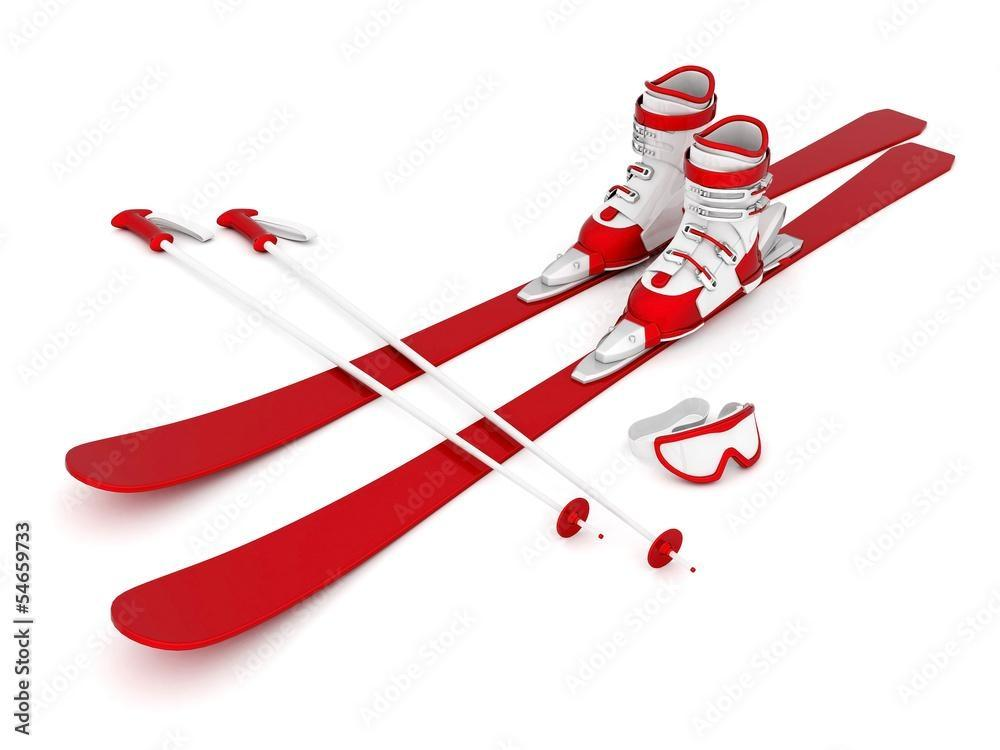Skis: (20, 5, 1000, 658)
